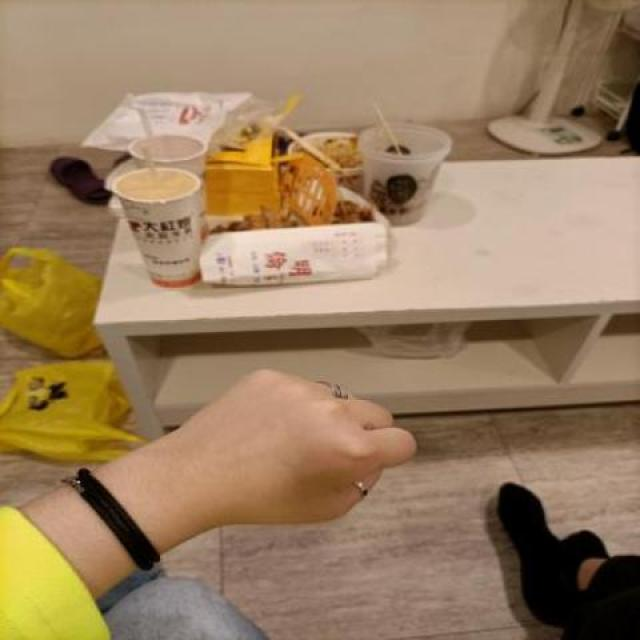Closed Hand: (167, 348, 422, 539)
